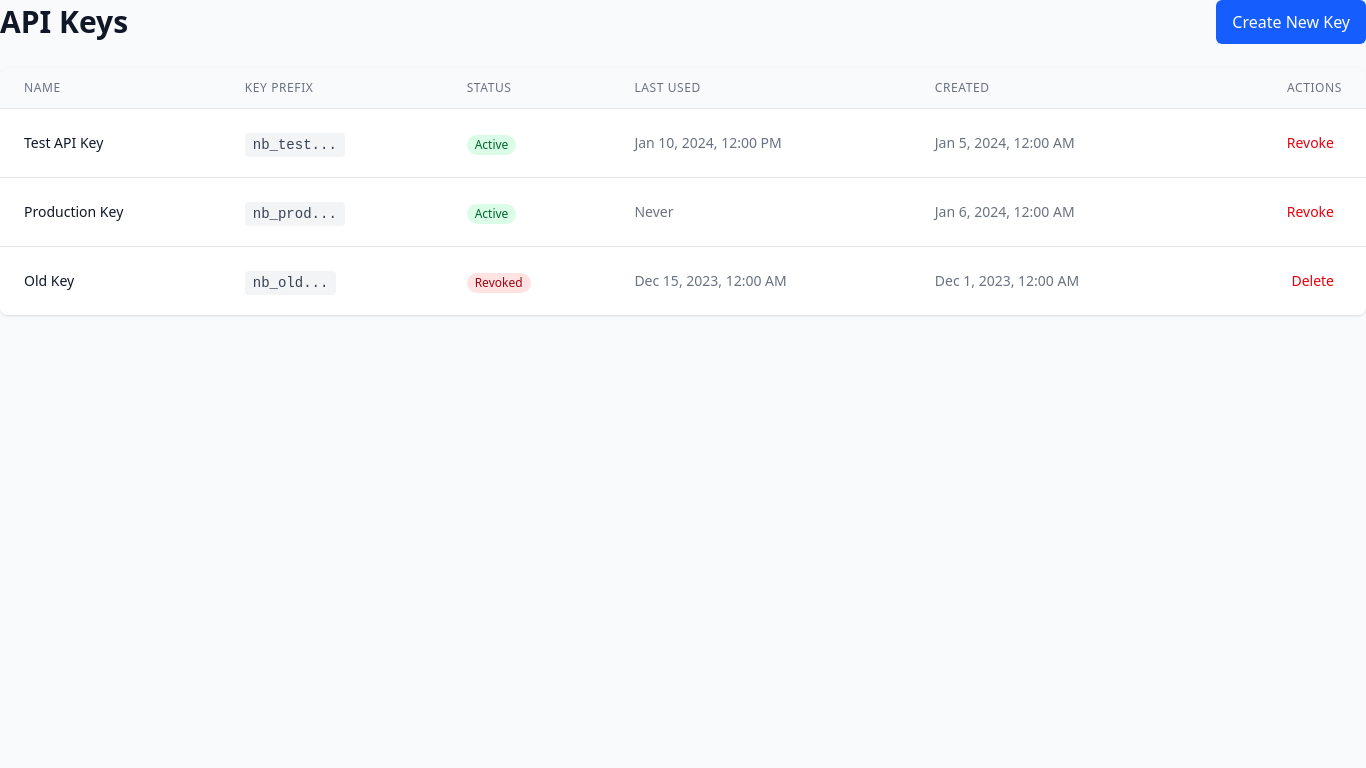
Test: ApiKeys Page › Create API Key › should open create modal when clicking create button
Note: Click create button
Click the button "Create New Key".
click(1291, 22)  # box [1216,0,1365,44]
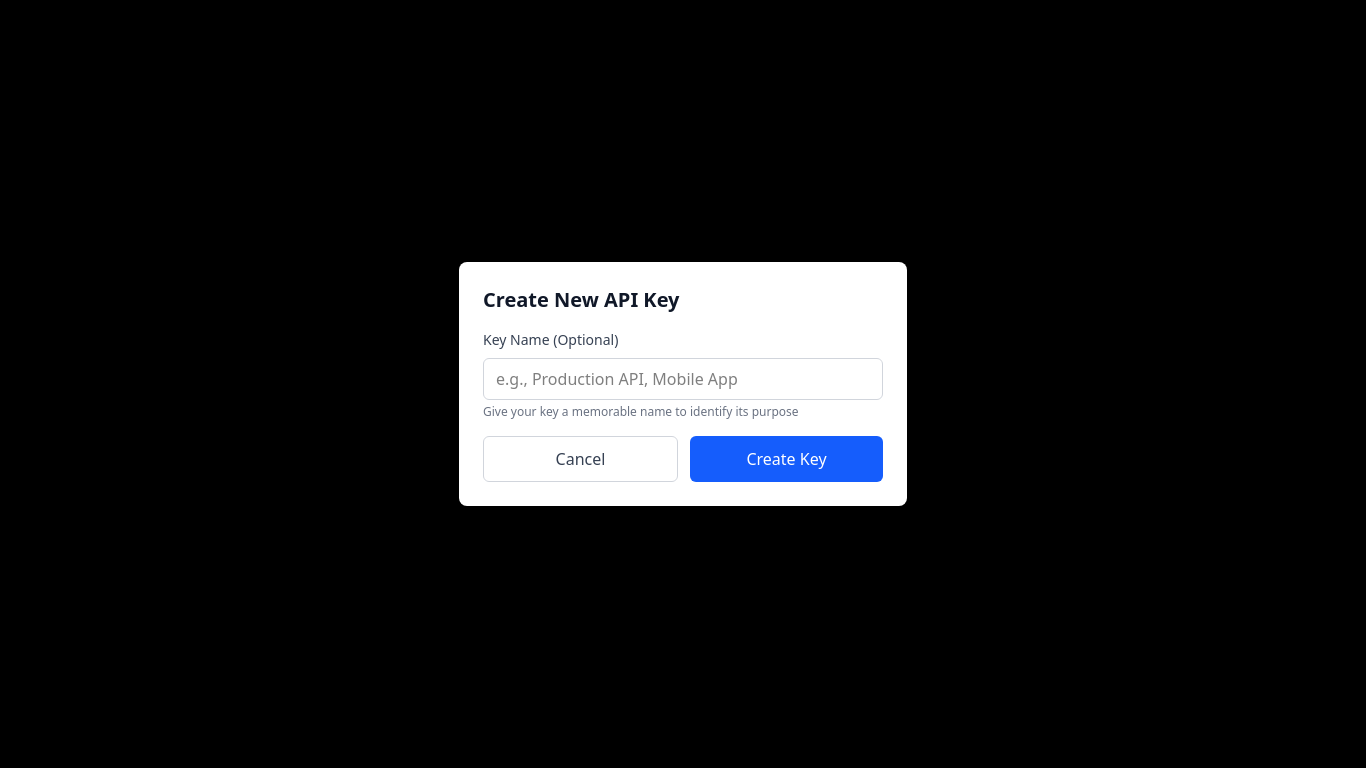
Expected: the heading "Create New API Key" is shown, [483,286,680,313]
Expected: the field labelled "Key Name (Optional)" is shown, [483,358,883,400]
